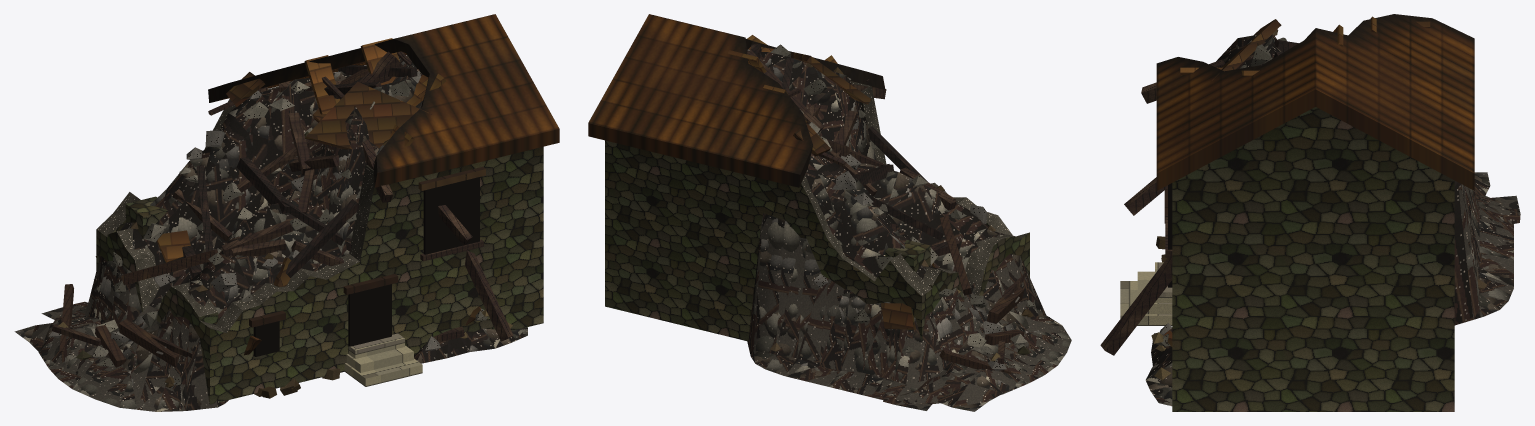
The model's file is CreHouse01a.glb.
The picture shows the model from 3 angles, left to right: view 1: azimuth 30°, elevation 25°; view 2: azimuth 150°, elevation 25°; view 3: azimuth 270°, elevation 25°; orthographic projection. The views are drawn at different scales.
Parts seen in each view (by area): view 1: CreHouse01a_rm; view 2: CreHouse01a_rm; view 3: CreHouse01a_rm.
Boxes of the visible parts, x1,y1,x2,y2 form: CreHouse01a_rm: (14,14,559,411); CreHouse01a_rm: (588,14,1071,411); CreHouse01a_rm: (1100,14,1520,411).
Size of the model in its own units: 7.04 by 4.33 by 4.84.
Materials: 25 (24 with a texture image).
